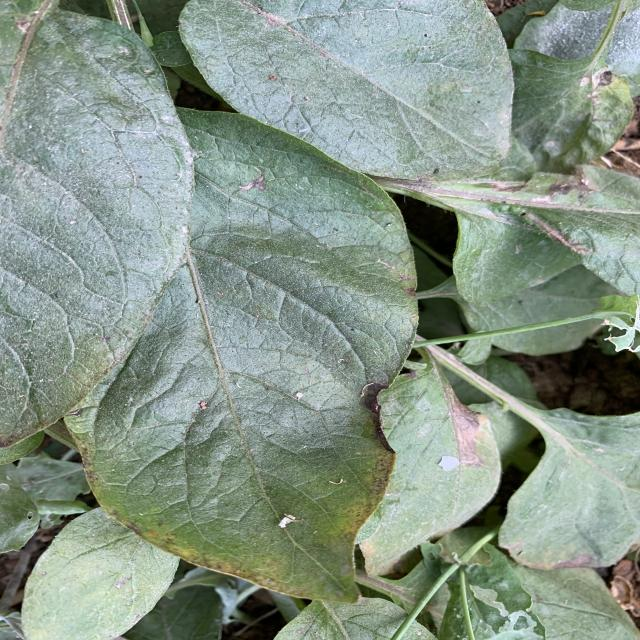lateblight: (435, 365, 493, 466)
